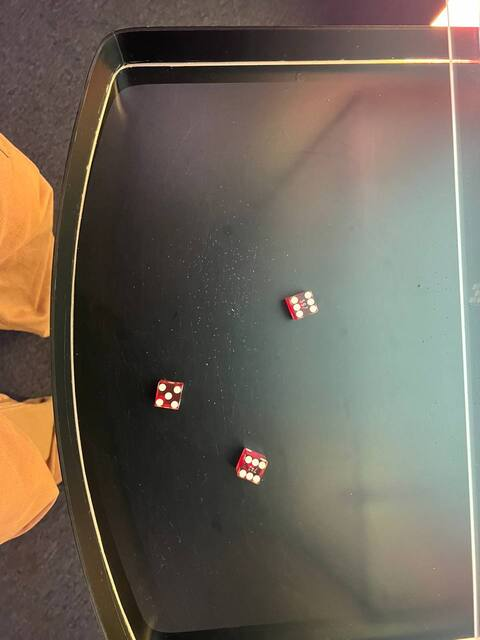five: (150, 375, 185, 412)
six: (233, 451, 270, 484), (285, 287, 320, 320)
